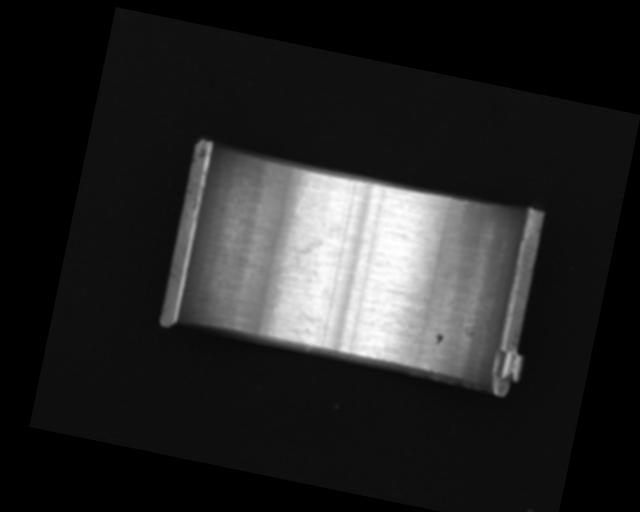blot: (271, 229, 326, 286)
bruise: (432, 331, 445, 347)
nick: (294, 173, 316, 215)
